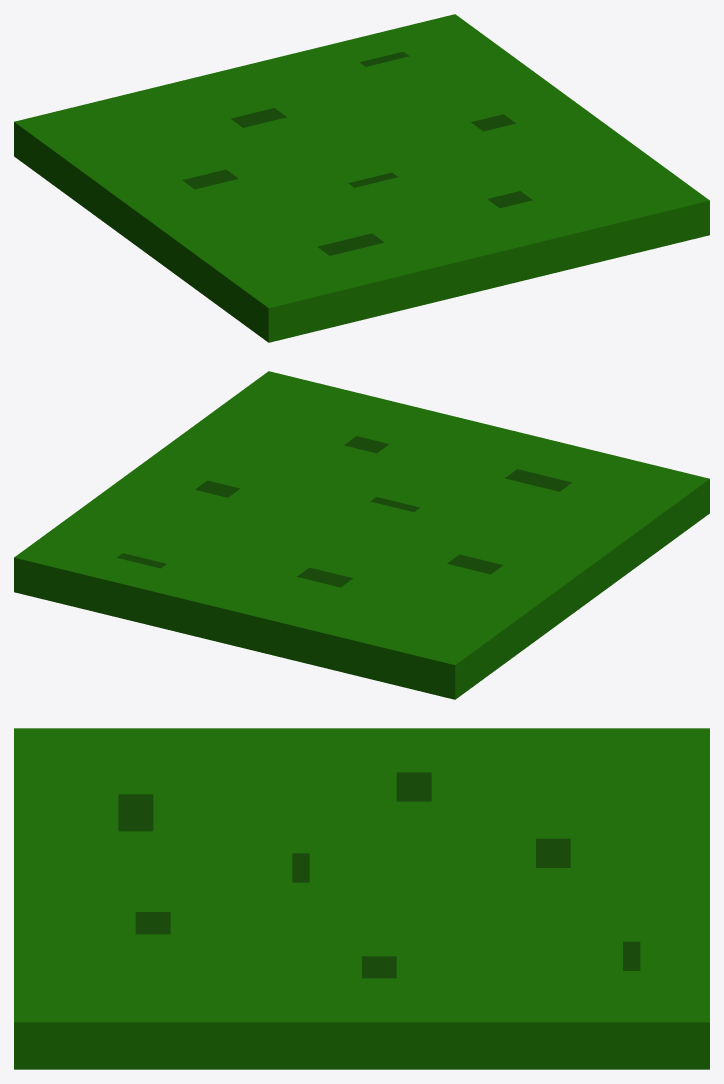
File: suelo 2.obj
3 views of the same model, one above another, from view 1: azimuth 30°, elevation 25°; view 2: azimuth 150°, elevation 25°; view 3: azimuth 270°, elevation 25° (orthographic). The views are drawn at different scales.
Bounding box in the file's own units: 4 × 0.3 × 4.
Materials: 1 (1 with a texture image).
